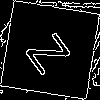Z: (25, 25, 80, 76)
